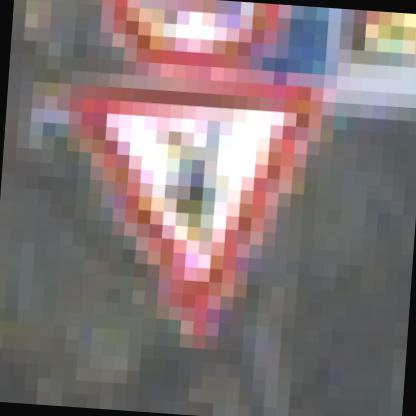crosswalk: (40, 63, 336, 372)
